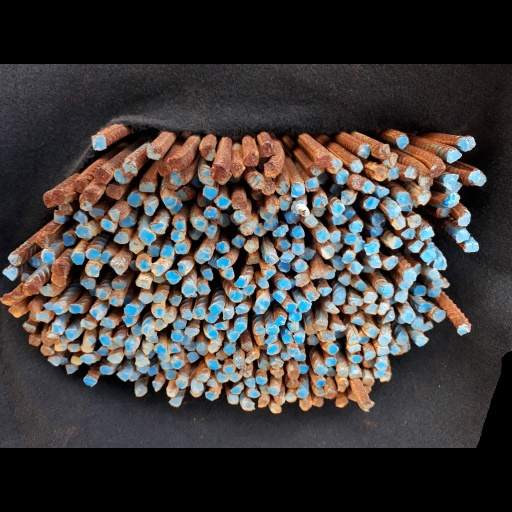dipstick: (243, 171, 264, 190), (120, 156, 138, 177), (110, 254, 128, 274), (238, 219, 257, 236), (138, 228, 157, 245), (143, 195, 158, 216), (165, 171, 182, 189), (34, 232, 52, 249), (146, 144, 165, 160), (94, 168, 113, 184), (458, 135, 477, 151), (128, 237, 145, 254), (90, 134, 108, 150), (210, 164, 226, 182), (441, 173, 459, 189), (275, 176, 290, 195), (106, 183, 122, 200), (134, 350, 151, 366), (22, 280, 39, 296), (177, 186, 195, 201), (442, 192, 461, 206), (165, 158, 185, 171), (382, 254, 398, 270), (159, 244, 175, 260), (244, 151, 259, 168), (261, 177, 276, 194), (202, 185, 219, 200), (290, 200, 307, 215), (328, 157, 343, 174), (349, 175, 366, 190), (362, 195, 379, 210), (244, 347, 259, 364), (126, 191, 143, 206), (108, 207, 125, 222), (315, 154, 333, 168), (233, 209, 251, 223), (164, 269, 182, 283), (50, 263, 68, 277), (0, 293, 19, 306), (83, 189, 99, 204), (73, 177, 88, 193), (446, 148, 462, 163), (386, 202, 401, 218), (392, 215, 407, 231), (364, 241, 380, 256), (303, 213, 319, 228), (290, 181, 304, 198), (213, 195, 230, 209), (284, 210, 301, 224), (51, 273, 68, 287), (2, 267, 19, 281), (391, 343, 409, 356), (118, 215, 136, 228), (233, 351, 245, 370), (259, 141, 274, 156), (263, 162, 278, 177), (305, 177, 320, 192), (199, 170, 214, 185), (349, 159, 364, 174), (374, 166, 389, 181), (429, 163, 444, 178), (341, 189, 356, 204), (379, 283, 394, 298), (253, 222, 268, 237), (85, 263, 100, 278), (201, 145, 215, 161), (231, 161, 245, 177), (78, 194, 92, 210), (334, 169, 348, 185), (376, 143, 390, 159), (383, 152, 397, 168), (396, 191, 412, 205), (361, 180, 377, 194), (332, 254, 346, 270), (294, 273, 310, 287), (272, 222, 288, 236), (181, 283, 197, 297), (42, 190, 55, 207), (408, 240, 425, 253), (150, 221, 167, 234), (113, 231, 130, 244), (100, 219, 117, 232), (316, 330, 336, 341), (309, 267, 327, 279), (52, 189, 66, 204), (402, 165, 417, 179), (418, 173, 433, 187), (472, 171, 486, 186), (419, 226, 434, 240), (330, 202, 345, 216), (420, 249, 435, 263), (348, 260, 363, 274), (244, 239, 259, 253), (239, 362, 253, 377), (222, 342, 237, 356), (76, 224, 90, 239), (71, 250, 85, 265), (112, 333, 127, 347), (41, 249, 55, 264), (309, 163, 325, 176), (231, 196, 247, 209), (396, 133, 409, 149), (458, 211, 471, 227), (368, 254, 384, 267), (315, 229, 331, 242), (293, 258, 309, 271), (324, 302, 340, 315), (203, 206, 219, 219), (196, 247, 212, 260), (174, 241, 190, 254), (170, 229, 186, 242), (89, 207, 105, 220), (107, 351, 123, 364), (40, 330, 53, 346), (383, 307, 395, 324), (298, 248, 315, 260), (72, 211, 89, 223), (135, 277, 152, 289), (171, 318, 188, 330), (123, 304, 140, 316), (138, 181, 156, 192), (445, 181, 463, 192), (407, 214, 421, 228), (320, 245, 334, 259), (291, 225, 305, 239), (265, 202, 280, 215), (279, 196, 292, 211), (432, 310, 447, 323), (353, 238, 366, 253), (342, 249, 355, 264), (344, 232, 359, 245), (348, 219, 363, 232), (326, 341, 339, 356), (313, 319, 328, 332), (335, 377, 348, 392), (241, 397, 256, 410), (190, 379, 205, 392), (196, 282, 211, 295), (193, 218, 208, 231), (124, 337, 139, 350), (98, 251, 113, 264), (53, 209, 66, 224), (53, 302, 68, 315), (8, 305, 23, 318), (312, 195, 328, 207), (358, 143, 370, 159), (375, 186, 391, 198), (456, 323, 472, 335), (332, 213, 348, 225), (311, 204, 327, 216), (269, 366, 285, 378), (111, 278, 127, 290), (38, 284, 54, 296), (417, 302, 434, 313), (162, 196, 179, 207), (386, 166, 400, 179), (467, 170, 481, 183), (418, 192, 431, 206), (402, 311, 416, 324), (395, 290, 409, 303), (365, 301, 378, 315), (366, 326, 380, 339), (324, 387, 338, 400), (276, 238, 290, 251), (264, 218, 278, 231), (256, 295, 269, 309), (205, 325, 219, 338), (207, 340, 221, 353), (195, 342, 208, 356), (232, 234, 245, 248), (137, 258, 151, 271), (138, 291, 152, 304), (162, 310, 175, 324), (116, 368, 129, 382), (47, 331, 60, 345), (28, 333, 42, 346), (23, 322, 37, 335), (456, 229, 471, 241), (370, 213, 385, 225), (401, 228, 416, 240), (433, 258, 448, 270), (414, 335, 429, 347), (292, 241, 304, 256), (334, 396, 349, 408), (257, 393, 269, 408), (280, 250, 295, 262), (276, 260, 291, 272), (240, 340, 255, 352), (206, 358, 221, 370), (222, 305, 234, 320), (220, 267, 235, 279), (168, 202, 183, 214), (142, 340, 154, 355), (133, 385, 148, 397), (82, 375, 97, 387), (86, 248, 101, 260), (8, 254, 23, 266), (349, 295, 365, 306), (252, 304, 268, 315), (235, 303, 251, 314), (64, 329, 80, 340), (188, 229, 204, 240), (329, 321, 346, 331), (212, 320, 229, 330), (364, 291, 377, 304), (371, 224, 384, 237), (361, 401, 374, 414), (273, 290, 286, 303), (265, 252, 278, 265), (147, 244, 160, 257), (181, 307, 194, 320), (154, 318, 167, 331), (122, 314, 135, 327), (96, 287, 109, 300), (29, 300, 42, 313), (251, 189, 265, 201), (437, 205, 451, 217), (343, 205, 355, 219), (338, 273, 352, 285), (336, 366, 350, 378), (314, 364, 328, 376), (288, 364, 300, 378), (287, 346, 301, 358), (229, 290, 243, 302), (230, 382, 244, 394), (185, 352, 199, 364), (170, 330, 184, 342), (167, 342, 181, 354), (141, 323, 155, 335), (109, 294, 123, 306), (90, 307, 104, 319), (82, 334, 96, 346), (62, 233, 74, 247), (57, 203, 72, 214), (354, 279, 369, 290), (265, 343, 280, 354), (262, 268, 277, 279), (173, 219, 188, 230), (151, 293, 166, 304), (80, 278, 95, 289), (80, 319, 95, 330), (27, 256, 42, 267), (159, 360, 175, 370), (403, 269, 416, 281), (428, 267, 441, 279), (410, 317, 423, 329), (299, 300, 312, 312), (273, 393, 286, 405), (229, 371, 242, 383), (171, 357, 184, 369), (183, 340, 196, 352), (193, 307, 205, 320), (201, 268, 213, 281), (216, 241, 229, 253), (177, 262, 190, 274), (169, 294, 182, 306), (151, 306, 164, 318), (130, 323, 142, 336), (51, 322, 63, 335), (47, 354, 60, 366), (465, 241, 479, 252), (375, 360, 389, 371), (349, 353, 363, 364), (372, 367, 386, 378), (362, 375, 376, 386), (304, 324, 318, 335), (313, 386, 327, 397), (295, 387, 309, 398), (285, 302, 299, 313), (278, 278, 292, 289), (270, 358, 284, 369), (242, 284, 256, 295), (234, 277, 248, 288), (243, 377, 257, 388), (246, 387, 260, 398), (226, 331, 240, 342), (208, 304, 222, 315), (205, 224, 216, 238), (150, 263, 164, 274), (40, 345, 54, 356), (35, 312, 49, 323), (427, 287, 442, 297), (398, 279, 413, 289), (343, 304, 358, 314), (376, 346, 391, 356), (323, 357, 338, 367), (156, 352, 171, 362), (100, 365, 115, 375), (81, 354, 96, 364), (391, 237, 403, 249), (358, 333, 370, 345), (379, 370, 391, 382), (299, 398, 311, 410), (273, 315, 285, 327), (257, 277, 269, 289), (218, 214, 230, 226), (413, 285, 426, 296), (330, 230, 341, 243), (286, 378, 299, 389), (286, 321, 299, 332), (247, 254, 260, 265), (216, 371, 229, 382), (206, 378, 219, 389), (233, 322, 246, 333), (145, 332, 158, 343), (98, 335, 111, 346), (317, 286, 331, 296), (307, 291, 321, 301), (347, 335, 361, 345), (289, 312, 303, 322), (222, 364, 236, 374), (204, 390, 218, 400), (215, 350, 229, 360), (205, 313, 219, 323), (168, 397, 182, 407), (100, 318, 114, 328), (69, 303, 83, 313), (306, 335, 320, 345), (265, 325, 280, 334), (151, 274, 166, 283), (378, 334, 390, 345), (323, 266, 334, 278), (333, 295, 345, 306), (362, 357, 374, 368), (293, 333, 305, 344), (268, 385, 280, 396), (258, 360, 270, 371), (227, 393, 239, 404), (217, 257, 229, 268), (130, 370, 141, 382), (129, 259, 140, 271), (421, 320, 434, 330), (351, 315, 364, 325), (312, 396, 325, 406), (284, 392, 297, 402), (255, 375, 268, 385), (164, 370, 177, 380), (154, 343, 167, 353), (65, 364, 78, 374), (293, 352, 307, 361), (264, 334, 278, 343), (185, 328, 199, 337), (96, 346, 110, 355), (332, 241, 343, 252), (365, 350, 376, 361), (298, 364, 309, 375), (258, 383, 269, 394), (151, 381, 162, 392), (396, 334, 408, 344), (349, 372, 364, 380), (314, 377, 326, 387), (271, 404, 283, 414), (254, 335, 266, 345), (176, 379, 188, 389), (346, 345, 363, 352), (253, 325, 266, 334), (196, 373, 209, 382), (180, 335, 193, 344), (136, 365, 149, 374), (70, 355, 83, 364), (80, 344, 94, 352), (42, 302, 56, 310), (67, 343, 81, 351), (325, 367, 336, 377), (166, 387, 177, 397), (147, 366, 158, 376), (441, 276, 450, 288), (55, 342, 67, 351), (60, 333, 72, 342), (28, 312, 40, 321), (19, 272, 31, 281), (189, 390, 204, 397), (432, 278, 442, 288), (123, 295, 133, 305), (413, 263, 421, 275), (280, 352, 292, 360), (333, 330, 345, 338), (59, 355, 68, 365)
